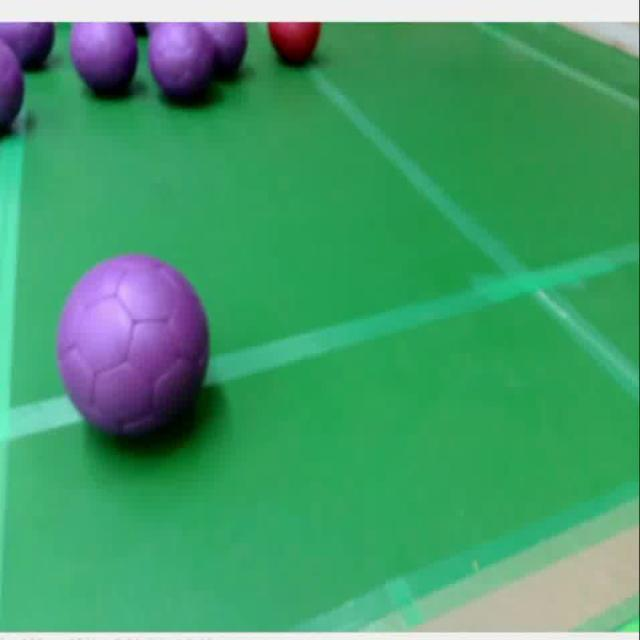purple_ball: (58, 253, 210, 446), (146, 23, 216, 104), (70, 23, 139, 92), (0, 23, 54, 70), (207, 24, 248, 78), (0, 40, 23, 132)
